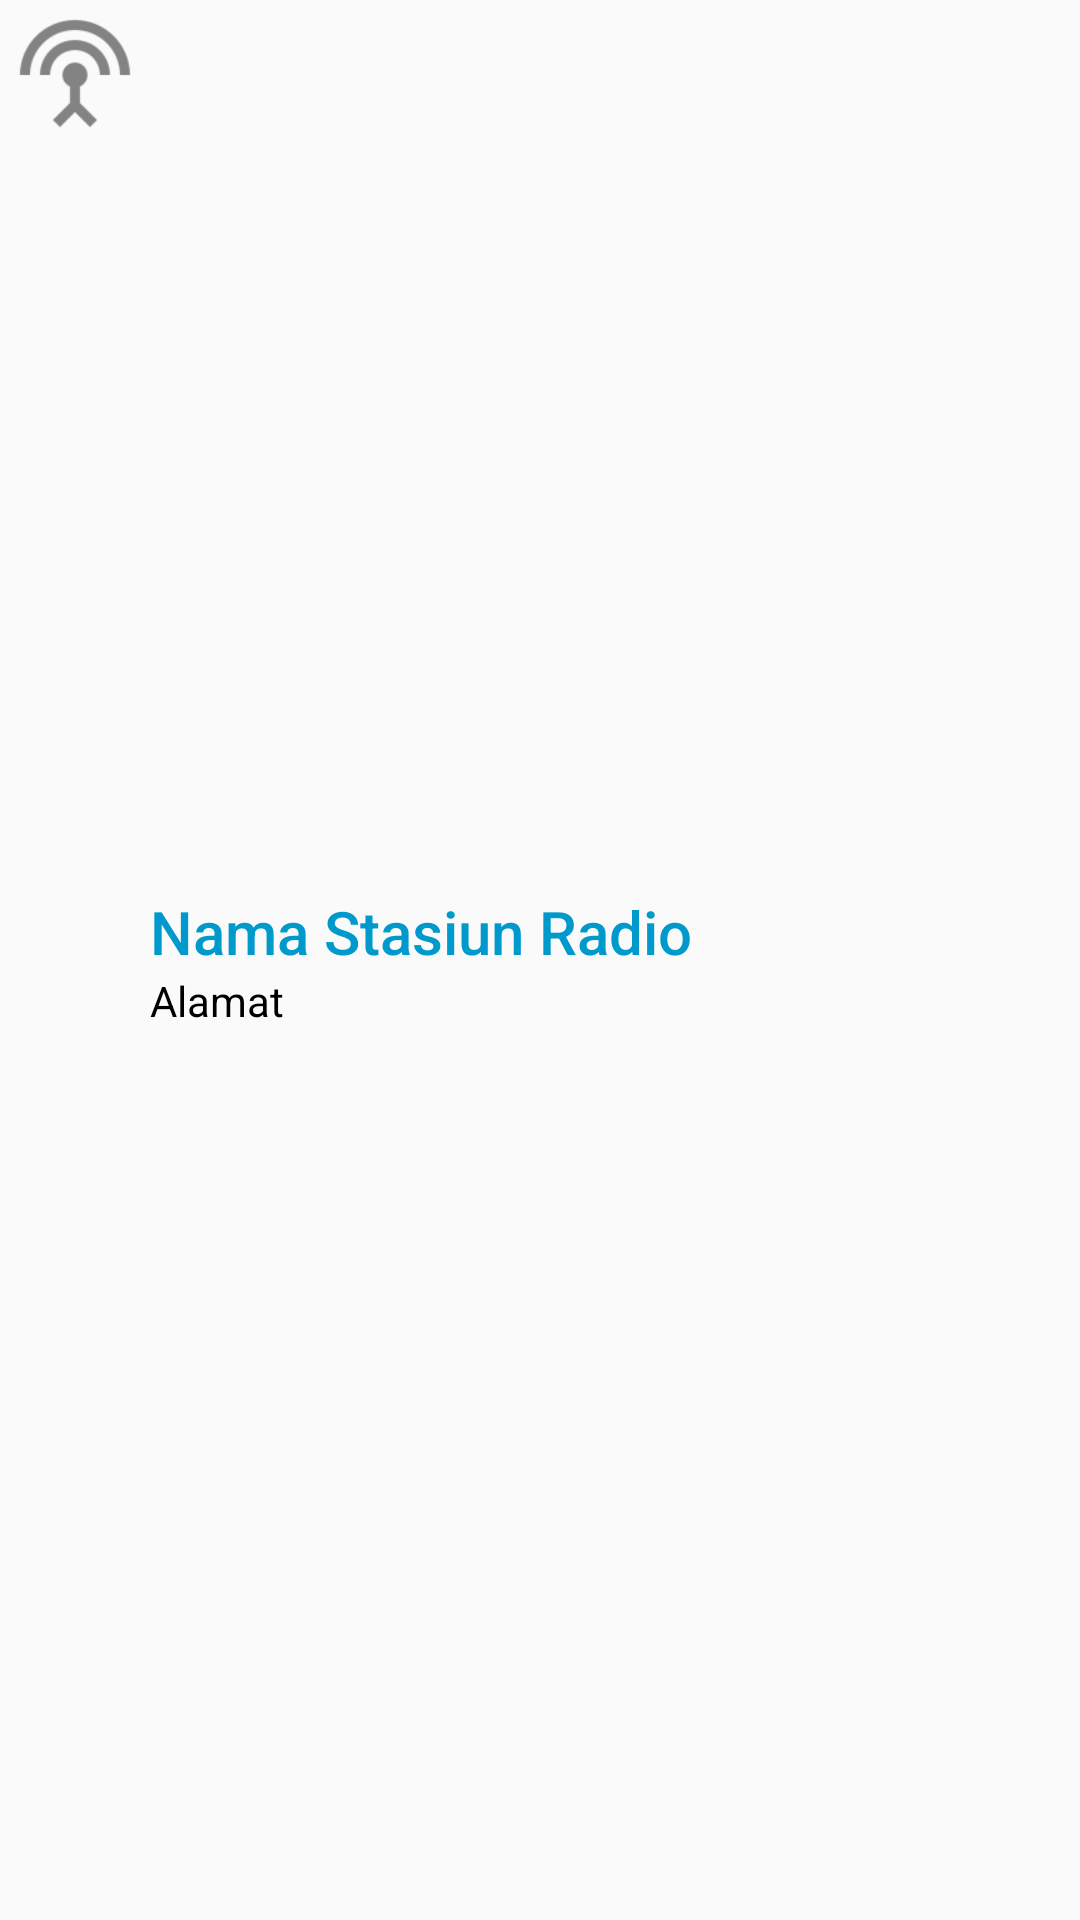

Icon click points for this 1080x1920 phone screenshot, format point (x, y):
radio station: point (75, 73)
